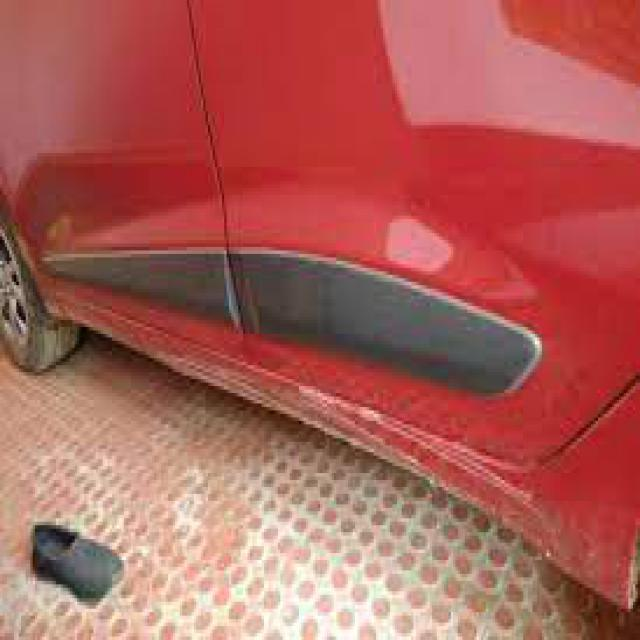RunningBoard-Dent: (260, 386, 534, 532)
doorouter-dent: (0, 0, 238, 365)
